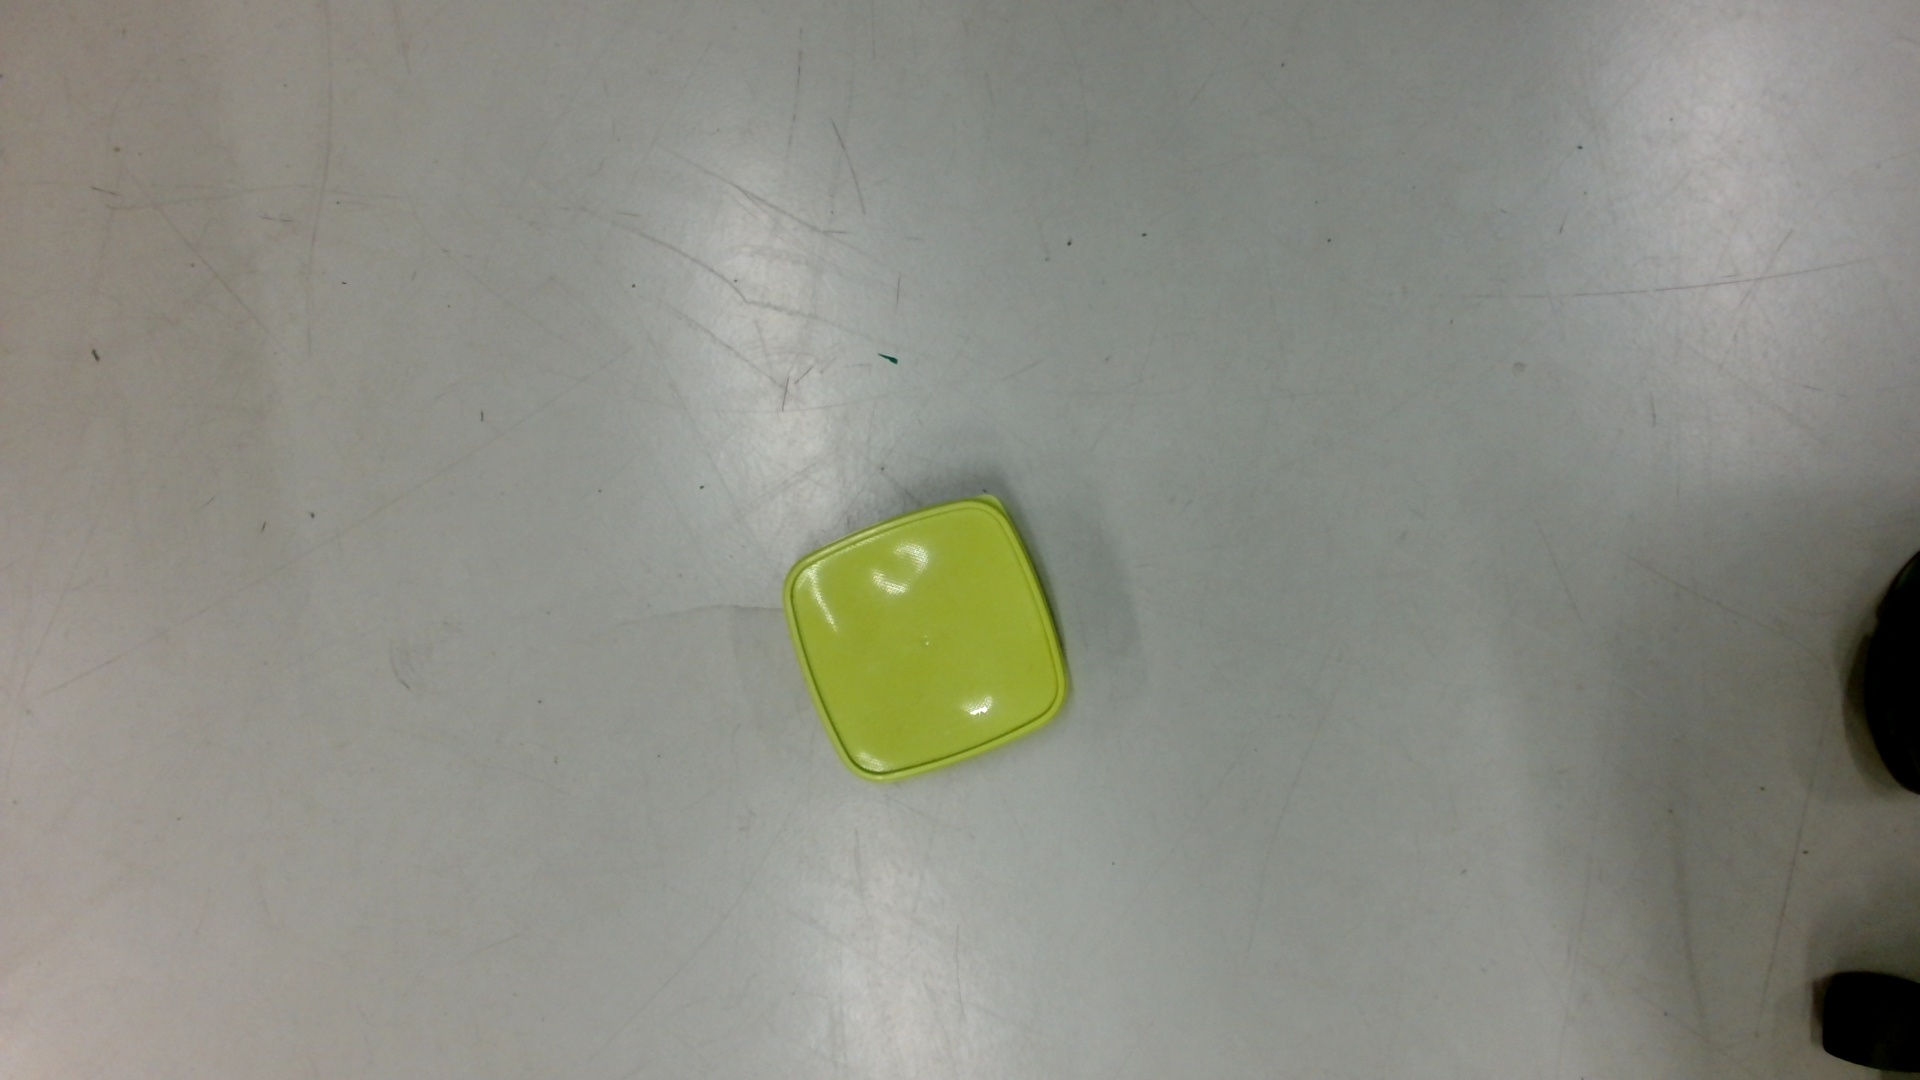Box: (778, 489, 1077, 789)
